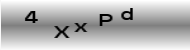4: (23, 10, 39, 24)
P: (98, 13, 113, 27)
X: (52, 24, 71, 40)
d: (120, 7, 134, 21)
x: (74, 21, 88, 33)
